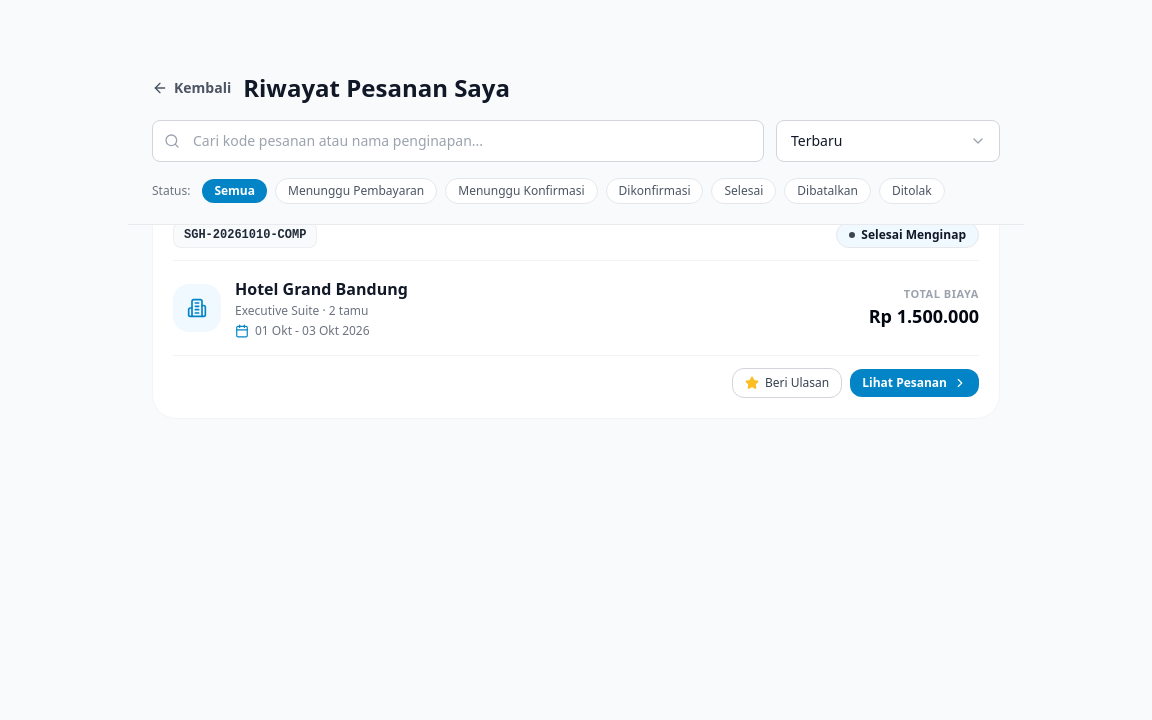
Scenario: OrderHistoryPage › renders Beri Ulasan button for completed booking and opens review modal
Click the button "Beri Ulasan".
click(787, 383)  # box [732,368,842,398]
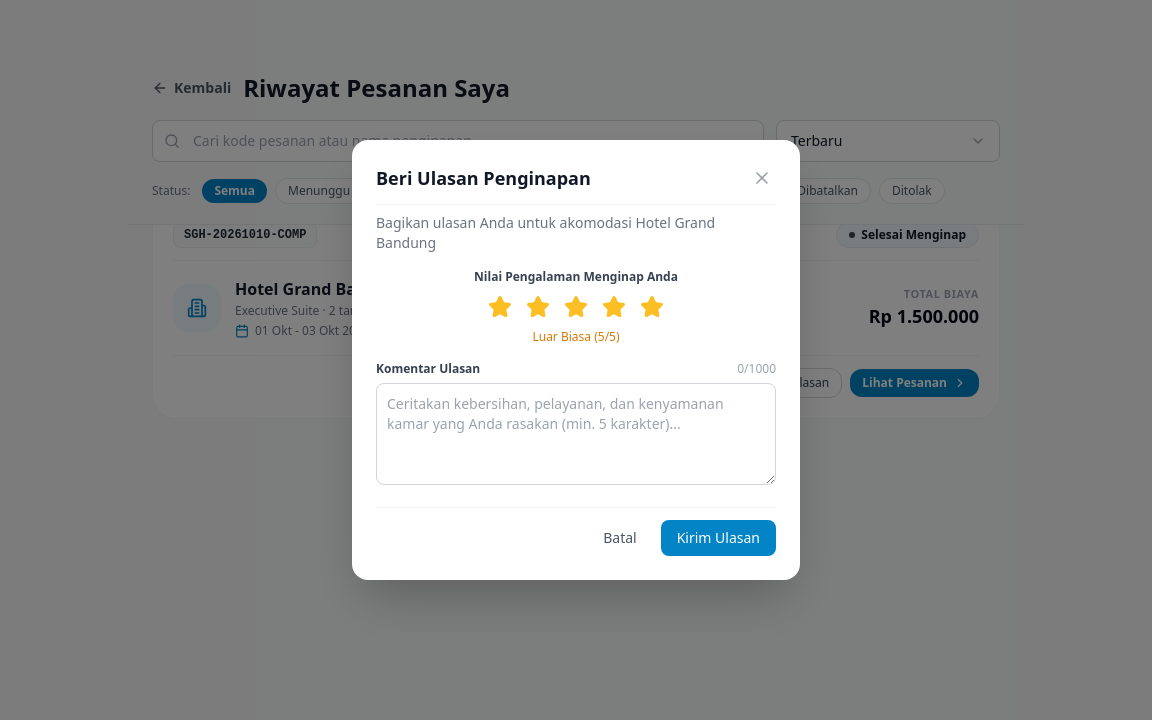
Check: the heading "Beri Ulasan Penginapan" is shown, box [376,164,591,192]
